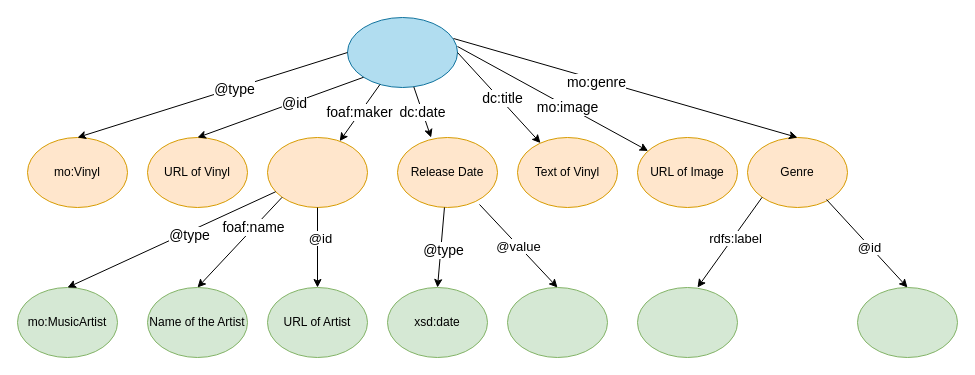
This 975x375 diagram has some shape labels left out. Each missing label, with the centre of its shape:
"Artist" belongs at [317,172].
"Release Date Value" belongs at [557,322].
"Text of Genre" belongs at [687,322].
"URL of Genre" belongs at [907,322].
"Vinyl" belongs at [402,52].
